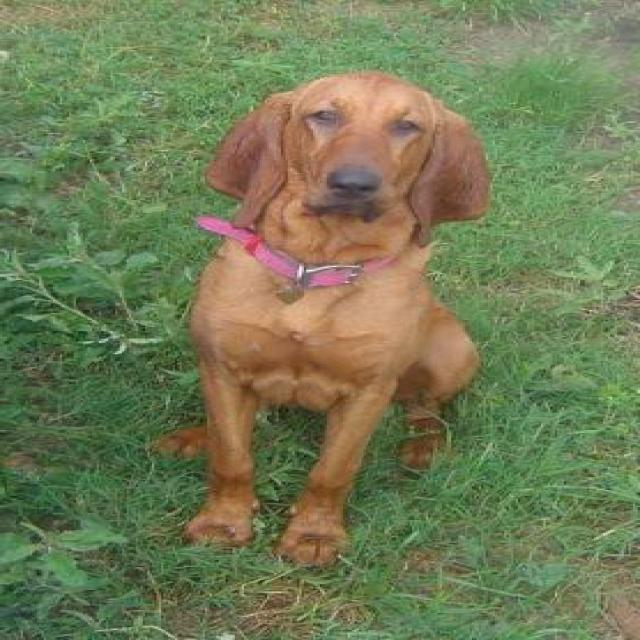bloodhound: (180, 71, 504, 572)
